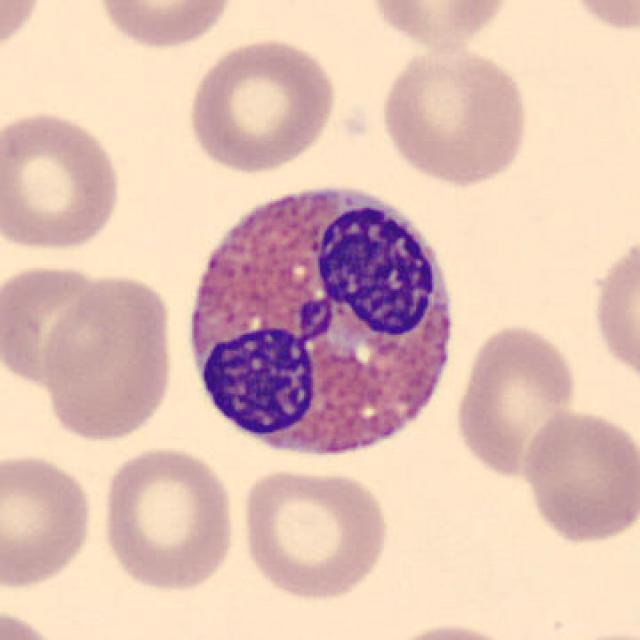Eosinophil: (176, 163, 471, 482)
RBC: (38, 270, 180, 446), (375, 42, 533, 189), (182, 34, 342, 176), (236, 464, 393, 604), (96, 443, 240, 594), (450, 319, 581, 481), (0, 106, 126, 257), (518, 406, 638, 546), (0, 257, 124, 391), (0, 448, 98, 592), (588, 226, 638, 395), (362, 0, 514, 51), (91, 0, 238, 51), (0, 0, 50, 65), (375, 619, 528, 640), (554, 0, 640, 37), (0, 604, 67, 640), (550, 626, 636, 640)
